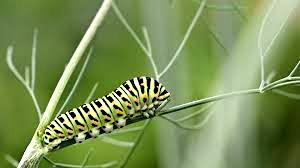Caterpillar: (39, 74, 173, 146)
